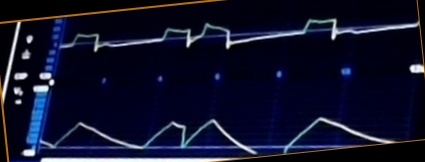Double_Triggering Flow: (62, 17, 419, 64)
Double_Triggering Volume: (41, 115, 394, 157)
